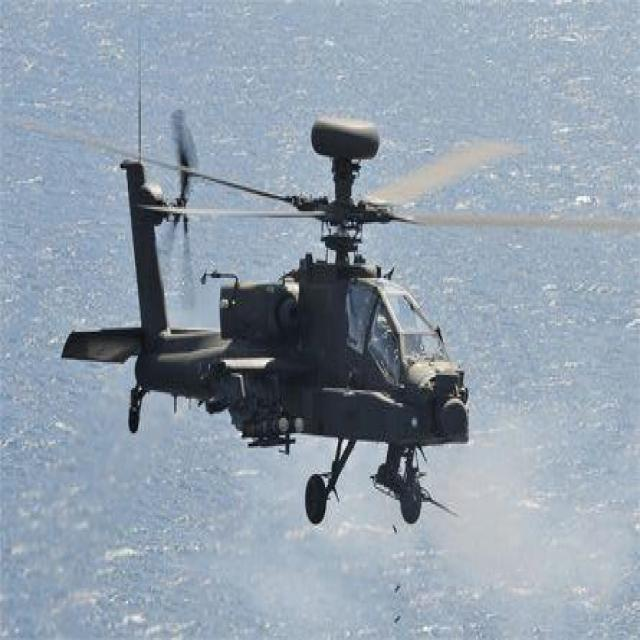MIL_HELO: (3, 94, 637, 538)
